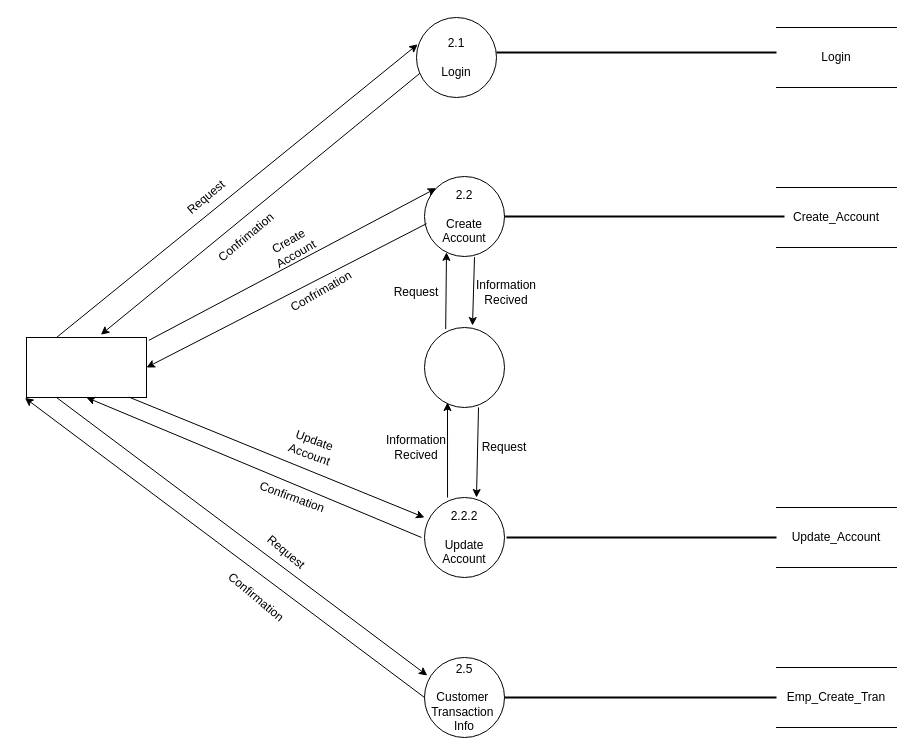
Some shapes in this 914 by 755 pixel diagram are drawn without their labels. Here are the shapes that lost their labels. From the top down, the centre of each, then its label:
(x=86, y=367): Customer
(x=464, y=367): 2.2.1 Customer Information
